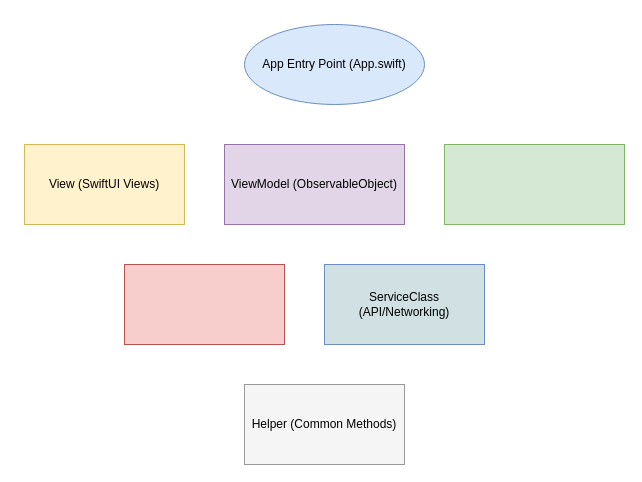
The diagram is 642 pixels wide and 482 high, and some of its shapes have lost their labels. Here are the shapes that lost their labels. From the top down, the centre of each, then its label:
At point 534,184: "UIComponent (Custom SwiftUI Views)".
At point 204,304: "Model (Structs/Data Types)".
